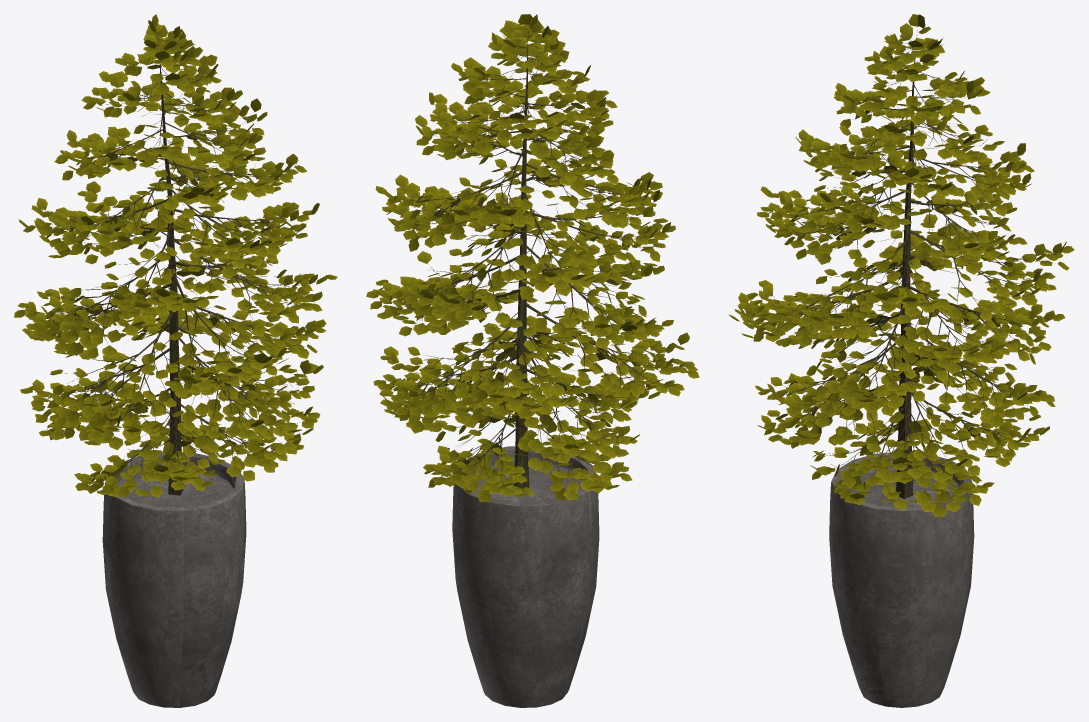
Rendered from INS PLANT BIG 2.fbx.
3 views of the same model, side by side, from view 1: azimuth 30°, elevation 25°; view 2: azimuth 150°, elevation 25°; view 3: azimuth 270°, elevation 25° (orthographic). The views are drawn at different scales.
Parts seen in each view (by area): view 1: INS PLANT BIG 2; view 2: INS PLANT BIG 2; view 3: INS PLANT BIG 2.
Boxes of the visible parts, <box> form: INS PLANT BIG 2: <box>14,14,337,707</box>; INS PLANT BIG 2: <box>366,14,699,707</box>; INS PLANT BIG 2: <box>728,14,1074,707</box>.
Size of the model in its own units: 113 by 248 by 116.
